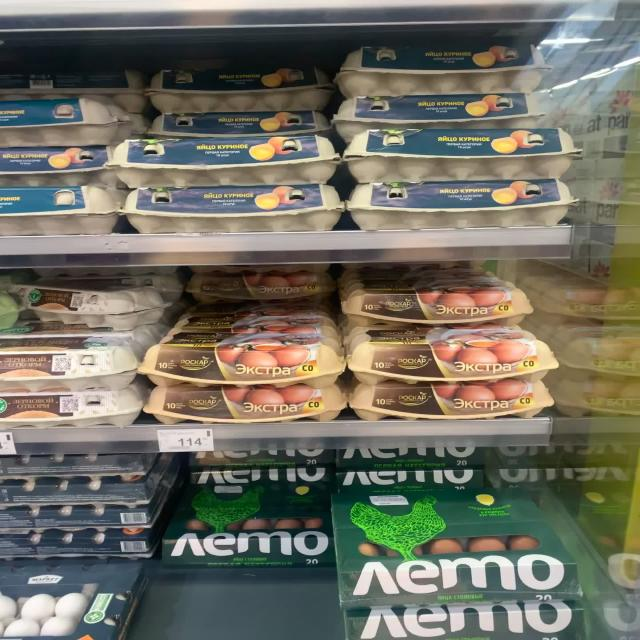egg box: (324, 488, 588, 608), (350, 123, 580, 181), (119, 130, 339, 186), (164, 501, 332, 570), (354, 177, 581, 228), (336, 41, 546, 96), (146, 333, 350, 389), (352, 328, 556, 384), (125, 181, 342, 233), (332, 93, 547, 138), (343, 273, 529, 325), (356, 372, 554, 420), (150, 63, 328, 113), (2, 331, 142, 392), (144, 384, 347, 424), (5, 281, 165, 330), (2, 93, 138, 146), (0, 185, 126, 233), (149, 109, 324, 138), (172, 305, 344, 333), (3, 144, 117, 185)
